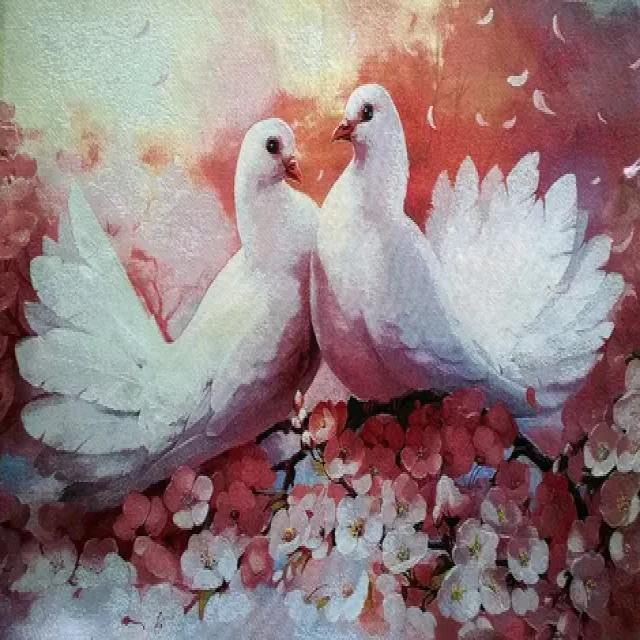pigeon: (312, 69, 624, 409)
